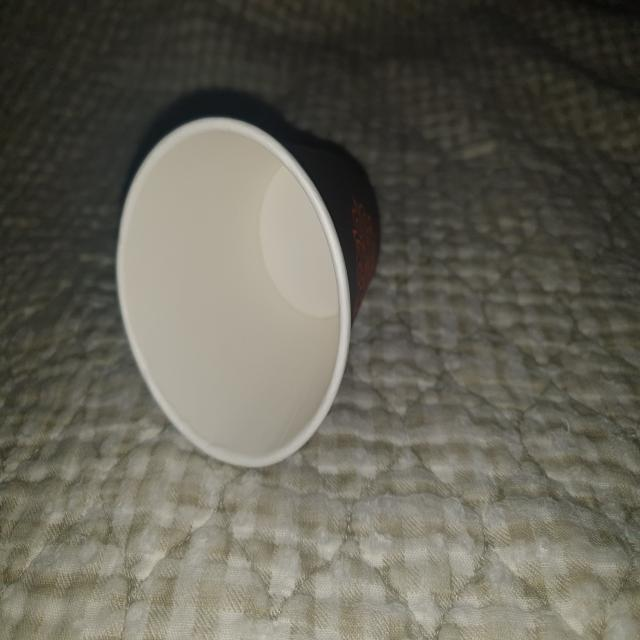cups: (109, 98, 389, 482)
